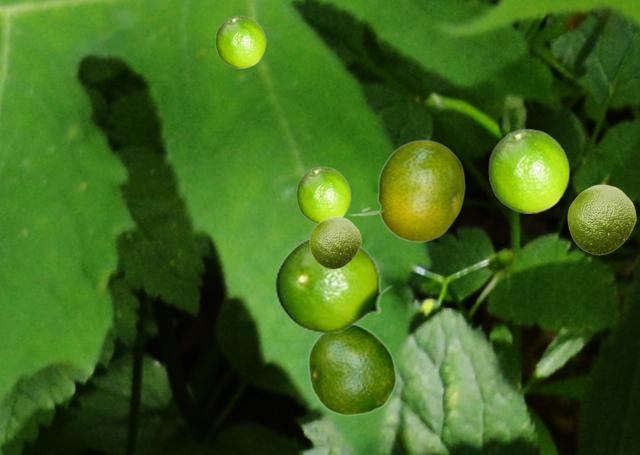calamansi: (348, 139, 464, 241), (274, 235, 392, 333), (307, 324, 396, 415), (488, 128, 569, 212), (567, 184, 635, 254), (296, 166, 350, 223), (309, 216, 360, 268), (215, 15, 265, 67)
